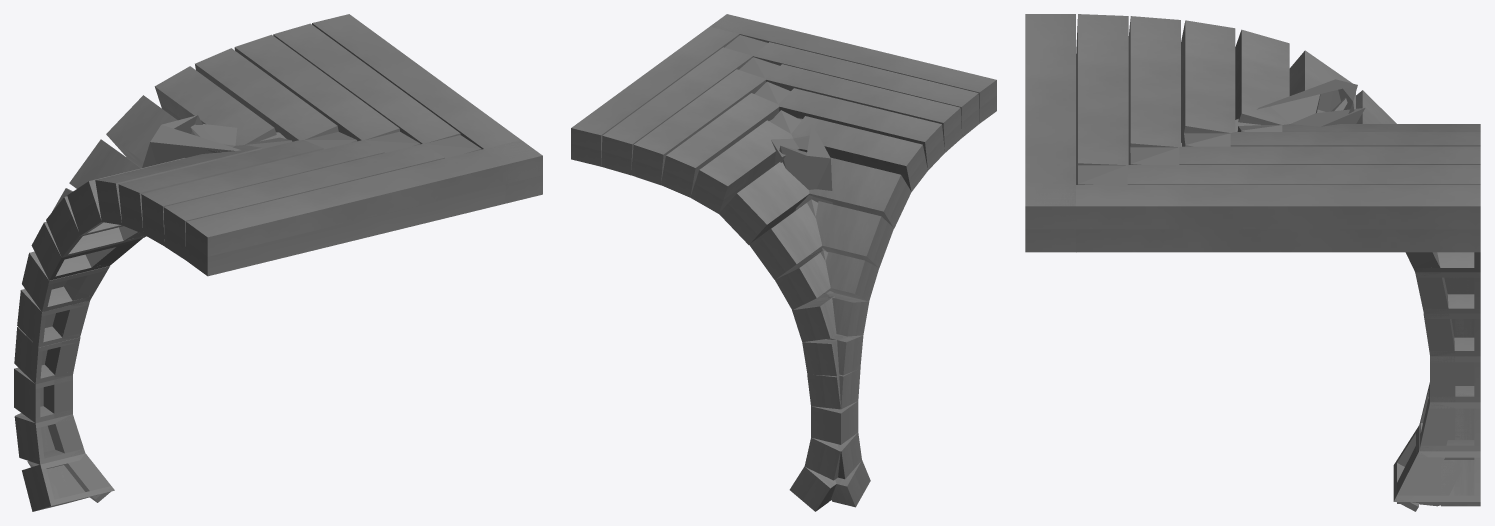
The model's file is dc_metro_arch_corner.obj.
The picture shows the model from 3 angles, left to right: view 1: azimuth 30°, elevation 25°; view 2: azimuth 150°, elevation 25°; view 3: azimuth 270°, elevation 25°; orthographic projection. The views are drawn at different scales.
Parts seen in each view (by area): view 1: part13, part12, part11, part10, part9, part8, part7b, corner8, part1, part7, part6, part5 (+12 smaller); view 2: part13, part12, part11, part10, part9, part8, part7b, part7, part6, part1, part5, corner8 (+6 smaller); view 3: part13, part12, part11, part10, part9, part1, corner1, part2, corner2, part8, corner8, corner3 (+10 smaller).
Boxes of the visible parts, bbox=[...] form: part13: bbox=[186, 14, 542, 276]; part12: bbox=[163, 23, 460, 260]; part11: bbox=[141, 34, 399, 246]; part10: bbox=[118, 48, 338, 233]; part9: bbox=[95, 66, 276, 225]; part8: bbox=[67, 95, 184, 235]; part7b: bbox=[46, 139, 144, 257]; corner8: bbox=[142, 115, 240, 167]; part1: bbox=[22, 453, 112, 511]; part7: bbox=[31, 188, 140, 280]; part6: bbox=[22, 251, 108, 311]; part5: bbox=[17, 288, 89, 347]; part13: bbox=[571, 14, 996, 166]; part12: bbox=[601, 42, 979, 175]; part11: bbox=[631, 64, 962, 185]; part10: bbox=[661, 88, 944, 197]; part9: bbox=[690, 116, 927, 213]; part8: bbox=[719, 157, 911, 244]; part7b: bbox=[749, 201, 893, 279]; part7: bbox=[775, 252, 878, 310]; part6: bbox=[792, 290, 869, 342]; part1: bbox=[789, 460, 870, 511]; part5: bbox=[802, 334, 863, 376]; corner8: bbox=[779, 125, 832, 211]; part13: bbox=[1025, 14, 1480, 252]; part12: bbox=[1076, 14, 1480, 184]; part11: bbox=[1128, 16, 1480, 164]; part10: bbox=[1181, 20, 1480, 146]; part9: bbox=[1235, 29, 1480, 131]; part1: bbox=[1393, 425, 1480, 511]; corner1: bbox=[1397, 446, 1462, 506]; part2: bbox=[1419, 382, 1480, 451]; corner2: bbox=[1420, 397, 1474, 445]; part8: bbox=[1289, 50, 1355, 112]; corner8: bbox=[1257, 79, 1357, 113]; corner3: bbox=[1430, 362, 1474, 396].
Bounding box in the file's own units: 9 × 10.33 × 9.
1 material, 1 textured.
